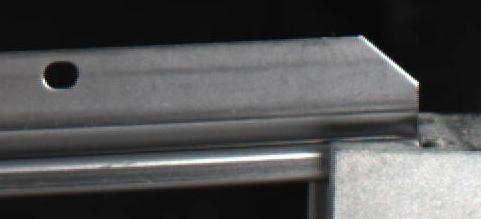cut: (281, 35, 424, 180)
holes: (41, 58, 82, 91)
